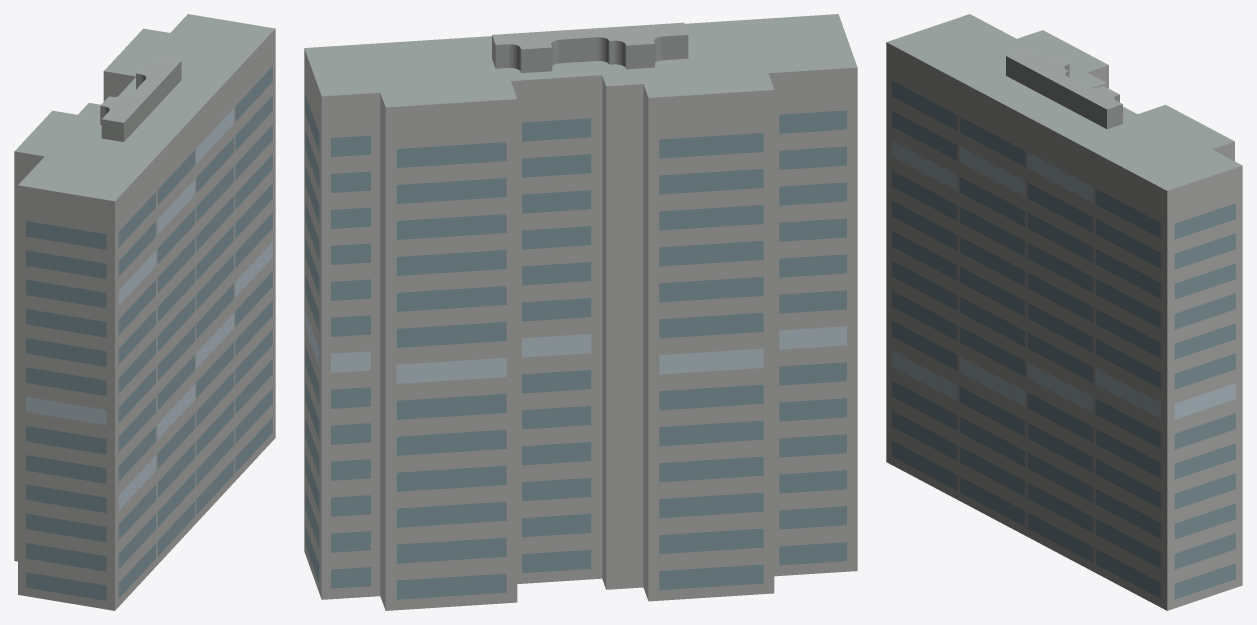
Rendered from fallback-gaepo-raemian-forest-111.glb.
3 views of the same model, side by side, from view 1: azimuth 30°, elevation 25°; view 2: azimuth 150°, elevation 25°; view 3: azimuth 270°, elevation 25° (orthographic). The views are drawn at different scales.
Parts seen in each view (by area): view 1: fallback-gaepo-raemian-forest-111; view 2: fallback-gaepo-raemian-forest-111; view 3: fallback-gaepo-raemian-forest-111.
Boxes of the visible parts, x1,y1,x2,y2 form: fallback-gaepo-raemian-forest-111: (14, 14, 275, 610); fallback-gaepo-raemian-forest-111: (304, 14, 857, 610); fallback-gaepo-raemian-forest-111: (886, 14, 1242, 610).
Size of the model in its own units: 37.99 by 44 by 32.32.
